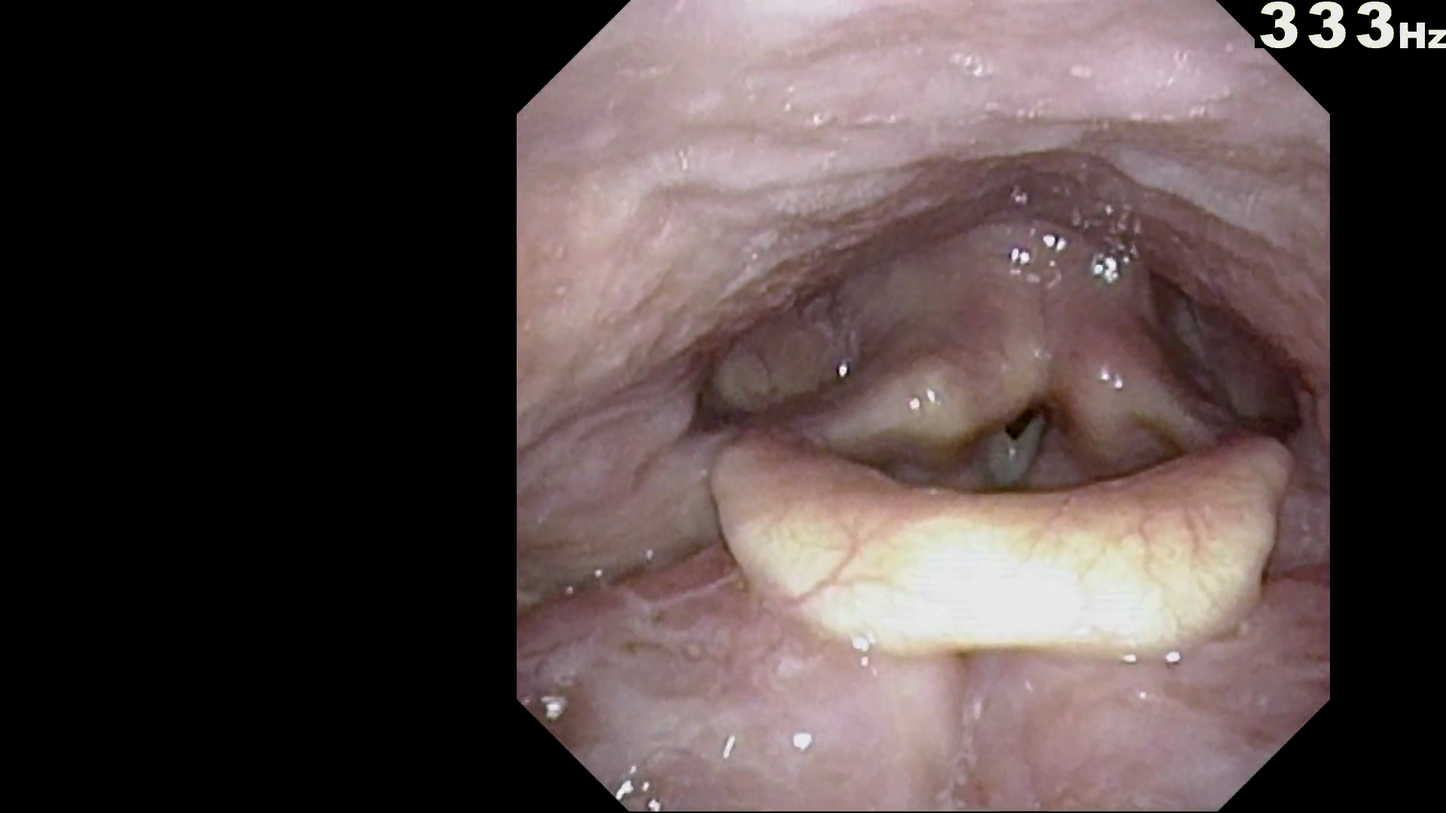epiglottis: (702, 405, 1307, 664)
trachea: (966, 388, 1071, 499)
